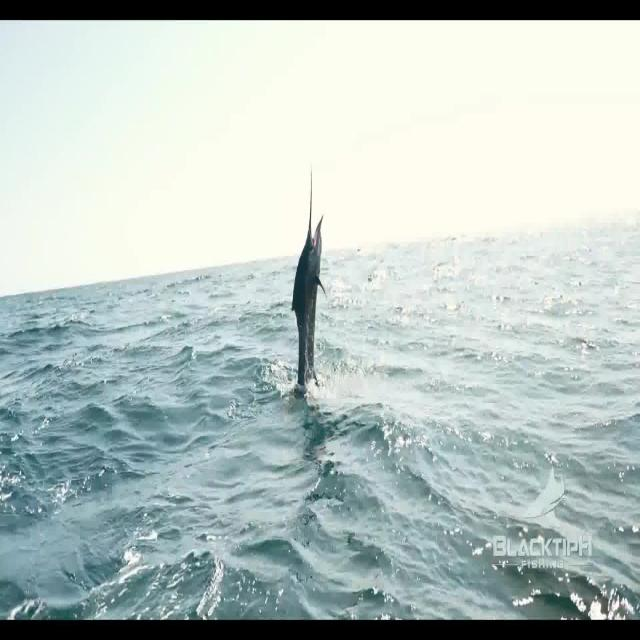Sail Fish: (290, 162, 328, 387)
